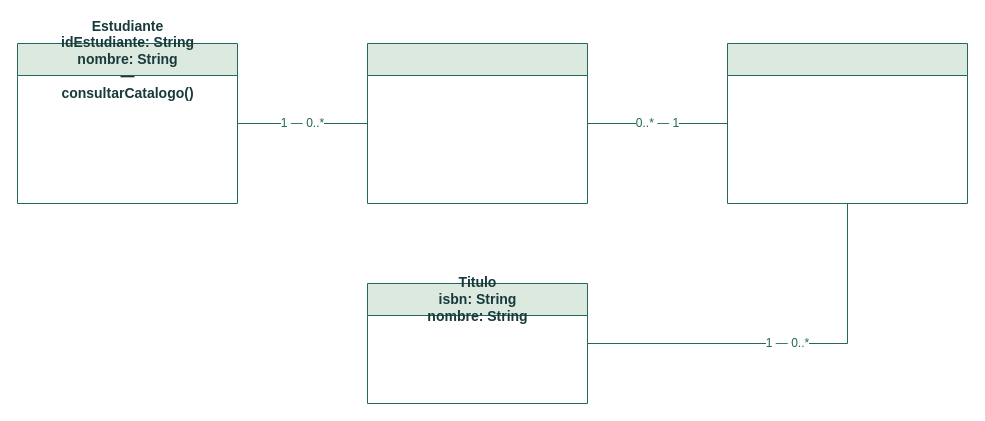
Some shapes in this 985 by 421 pixel diagram are drawn without their labels. Each missing label, with the centre of its shape:
Ejemplar idEjemplar: Integer estado: EstadoEjemplar — cambiarEstado(): point 847,123
Prestamo idPrestamo: Integer fecha: Date — registrarDevolucion(): point 477,123
